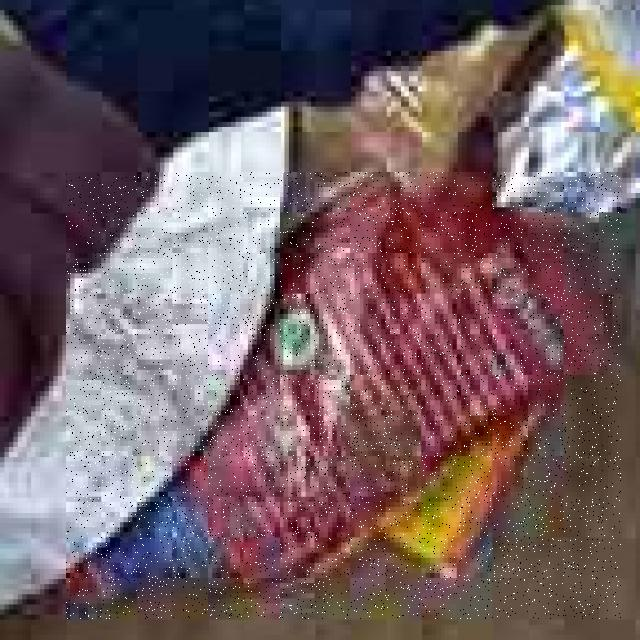wrapper: (67, 172, 621, 619)
